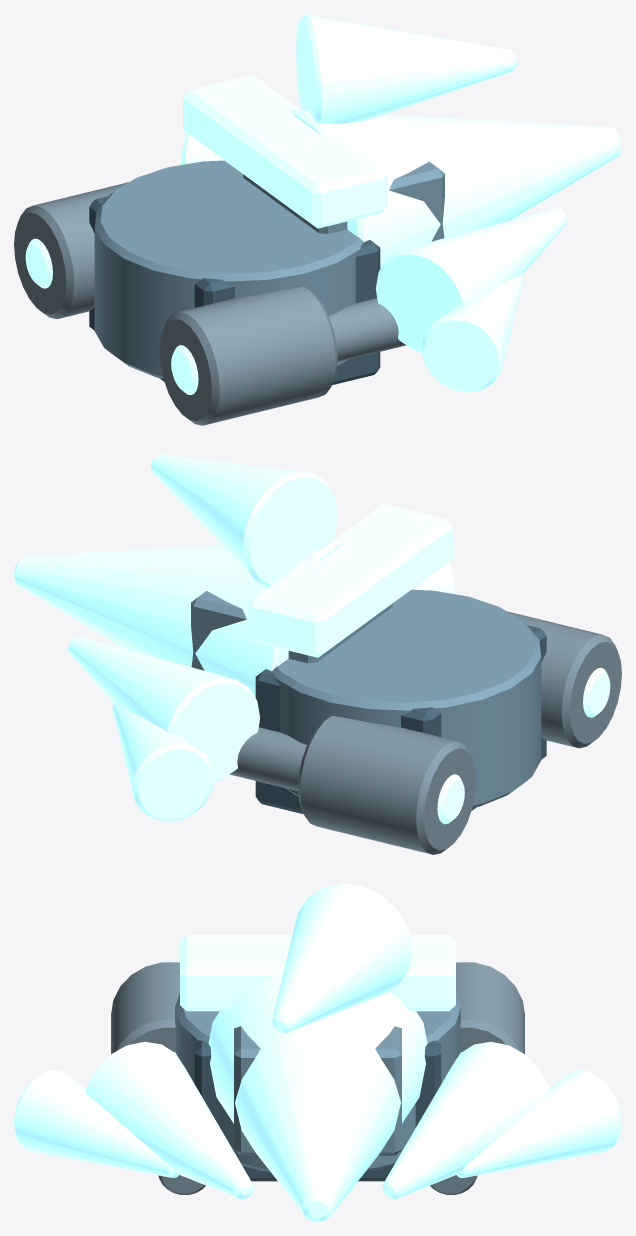
Rendered from frost_turret_l4.glb.
3 views of the same model, one above another, from view 1: azimuth 30°, elevation 25°; view 2: azimuth 150°, elevation 25°; view 3: azimuth 270°, elevation 25° (orthographic).
Visible parts, largest first — view 1: Cylinder, Cone, Cylinder.003, Cube.002, Cone.005, Cone.001, Cylinder.005, Cone.003, Cube, Cylinder.001, Cube.001, Cylinder.004 (+2 smaller); view 2: Cylinder, Cone, Cylinder.005, Cube.002, Cone.005, Cone.002, Cylinder.003, Cone.004, Cube, Cylinder.002, Cube.001, Cylinder.006 (+2 smaller); view 3: Cone, Cone.005, Cone.001, Cone.002, Cube.002, Cone.003, Cone.004, Cylinder, Cylinder.003, Cylinder.005, Cube, Cube.001 (+2 smaller).
Part boxes in pixels (<box>): Cylinder: <box>94,160,363,378</box>; Cone: <box>291,109,621,268</box>; Cylinder.003: <box>159,286,337,425</box>; Cube.002: <box>183,74,387,228</box>; Cone.005: <box>296,14,517,123</box>; Cone.001: <box>375,207,567,352</box>; Cylinder.005: <box>14,182,128,319</box>; Cone.003: <box>421,274,523,392</box>; Cube: <box>89,196,380,384</box>; Cylinder.001: <box>329,298,405,361</box>; Cube.001: <box>243,161,444,241</box>; Cylinder.004: <box>171,345,198,394</box>; Cylinder: <box>272,589,541,807</box>; Cone: <box>14,539,344,697</box>; Cylinder.005: <box>298,716,476,854</box>; Cube.002: <box>248,504,452,657</box>; Cone.005: <box>150,454,337,587</box>; Cone.002: <box>68,636,259,781</box>; Cylinder.003: <box>507,611,621,748</box>; Cone.004: <box>112,703,214,821</box>; Cube: <box>255,625,546,814</box>; Cylinder.002: <box>229,727,306,790</box>; Cube.001: <box>191,591,392,670</box>; Cylinder.006: <box>437,774,464,824</box>; Cone: <box>208,961,427,1221</box>; Cone.005: <box>272,883,412,1033</box>; Cone.001: <box>85,1041,253,1199</box>; Cone.002: <box>382,1041,550,1199</box>; Cube.002: <box>180,935,455,1011</box>; Cone.003: <box>14,1070,179,1177</box>; Cone.004: <box>456,1070,621,1177</box>; Cylinder: <box>175,993,460,1171</box>; Cylinder.003: <box>111,962,179,1053</box>; Cylinder.005: <box>456,962,524,1053</box>; Cube: <box>194,1040,441,1181</box>; Cube.001: <box>234,1026,401,1155</box>.
Size of the model in its own units: 1.21 by 0.6756 by 1.23.
